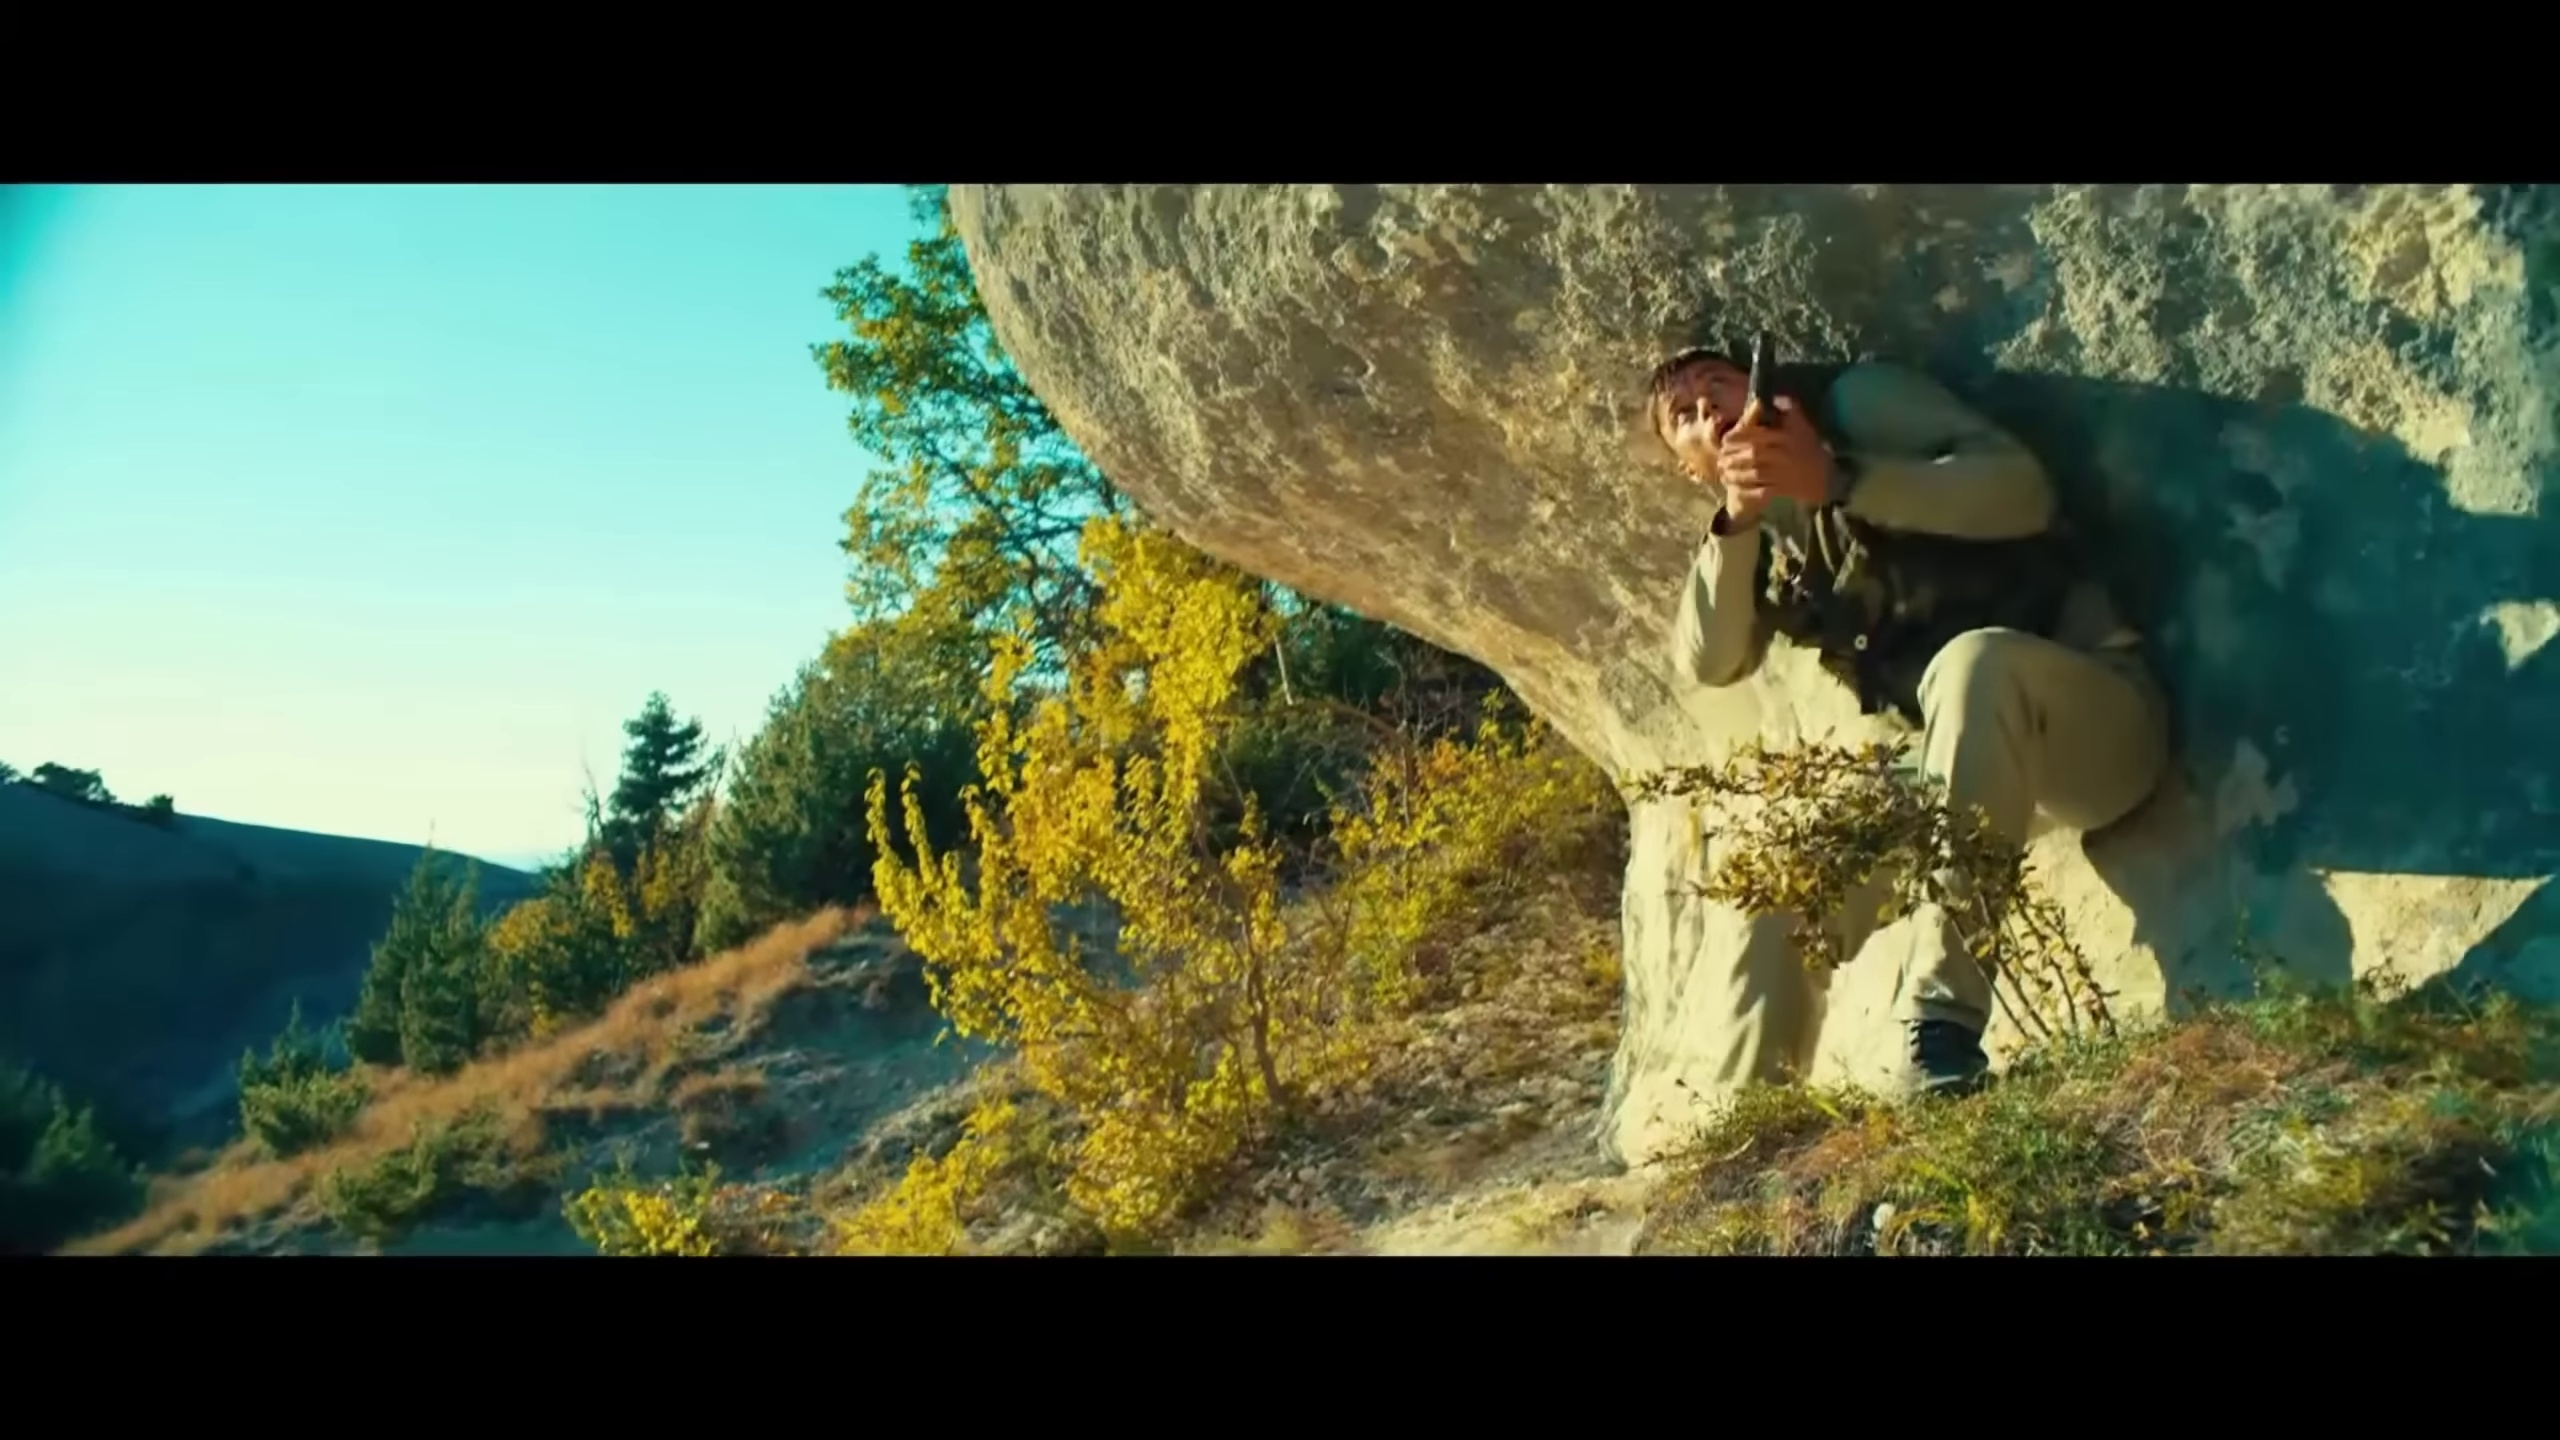gun: (1732, 322, 1799, 438)
p_w_gun: (1640, 332, 2177, 1102)
